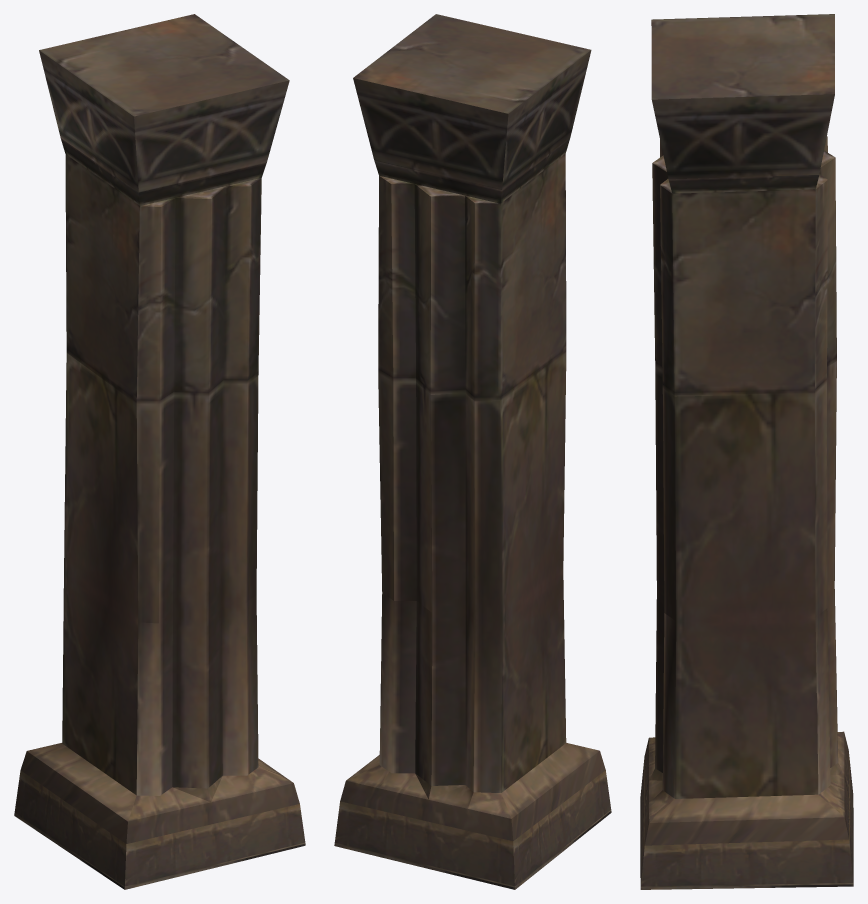
File: rysd_zhuzi_01.FBX
3 renders of one model, left to right at view 1: azimuth 30°, elevation 25°; view 2: azimuth 150°, elevation 25°; view 3: azimuth 270°, elevation 25°, orthographic. The views are drawn at different scales.
Visible parts, largest first — view 1: rysd_zhuzi_01; view 2: rysd_zhuzi_01; view 3: rysd_zhuzi_01.
Boxes of the visible parts, bbox=[...] form: rysd_zhuzi_01: bbox=[14, 14, 305, 889]; rysd_zhuzi_01: bbox=[334, 14, 611, 889]; rysd_zhuzi_01: bbox=[640, 14, 853, 889].
Bounding box in the file's own units: 223 × 869 × 213.
